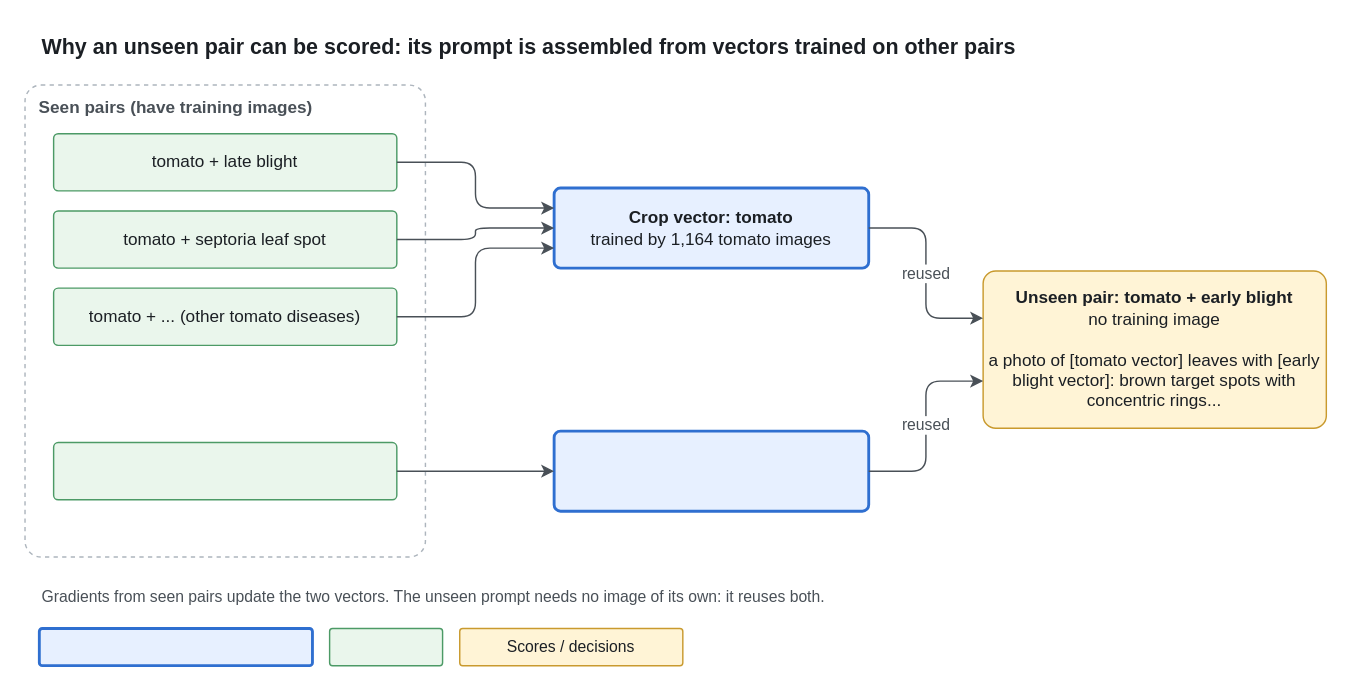
Image size: 1351x691. Some labels were removed from this diagram. Here are the shapes that lost their labels. From the top down, the centre of each, then its label:
the point at 224,470: potato + early blight
the point at 710,470: Disease vector: early blight trained by 102 early-blight images
the point at 175,646: Trained in this project
the point at 385,646: Data in
